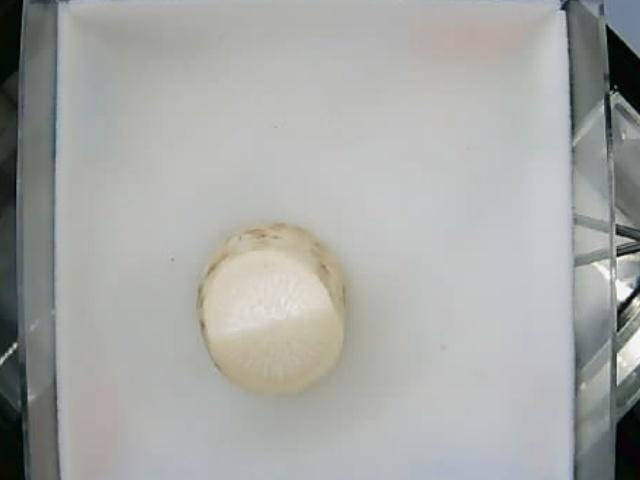Mooli: (197, 220, 344, 387)
